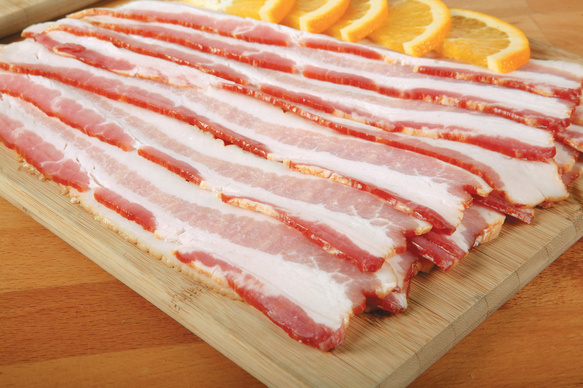bacon: (8, 15, 542, 294)
